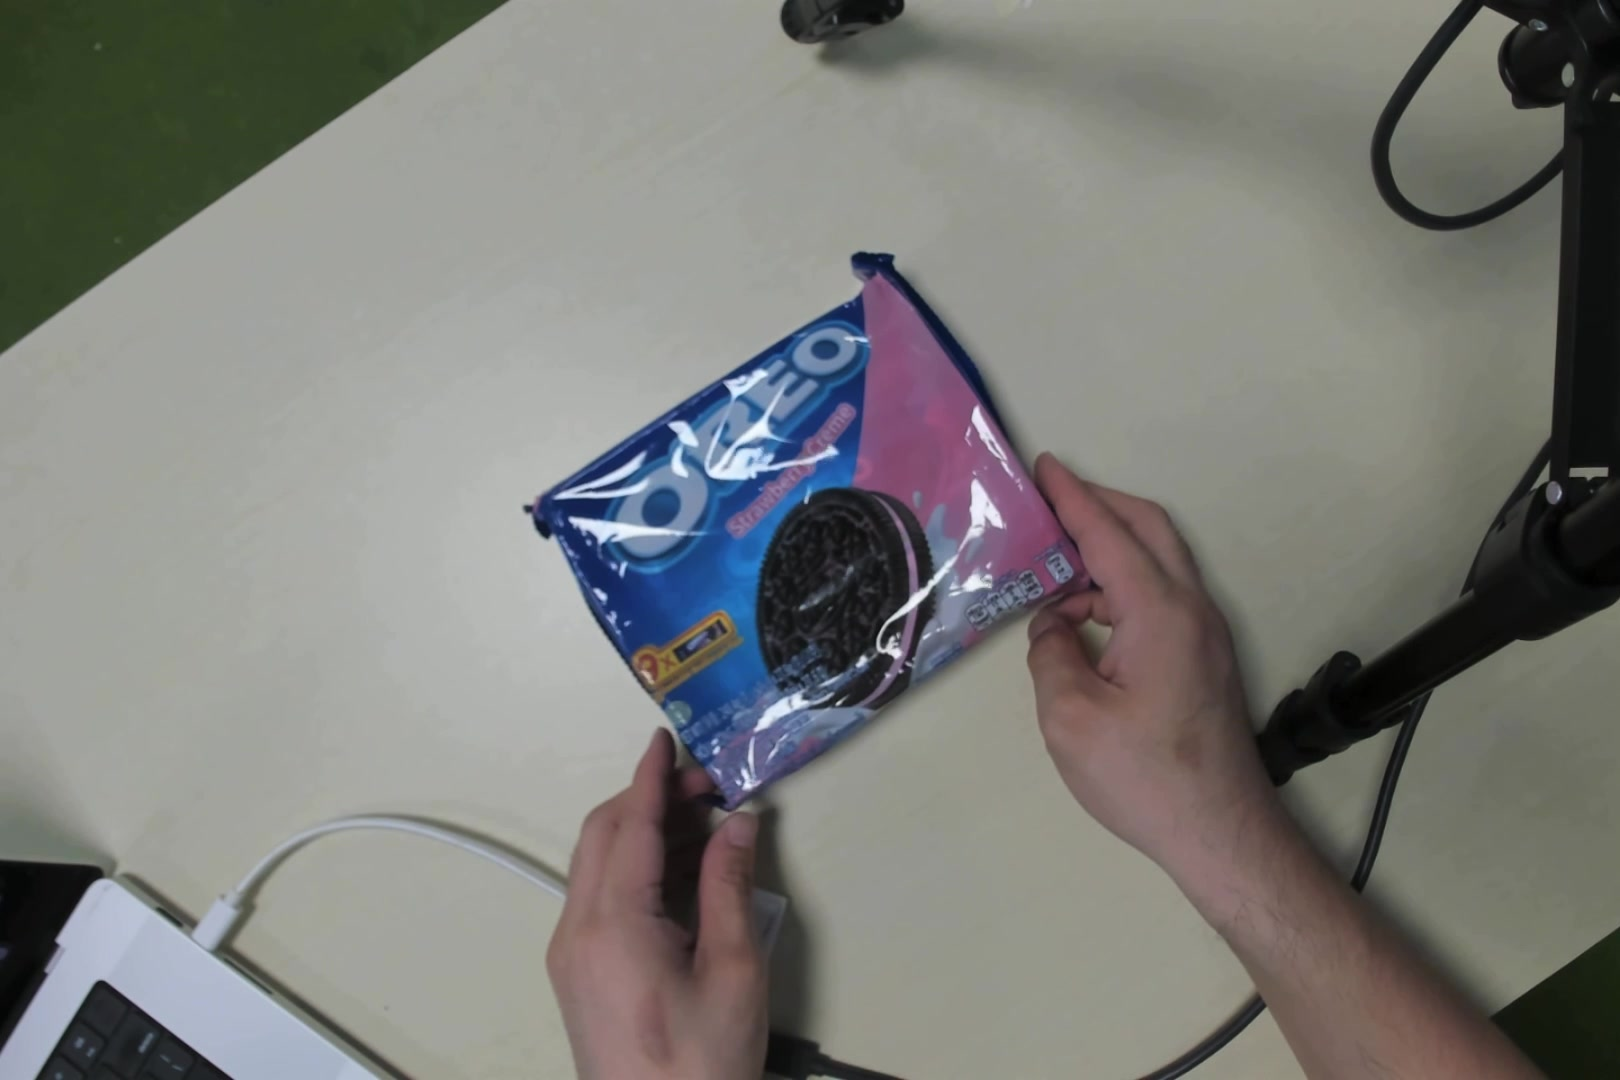SweetsChocolatesOthers_200-299g_Halal_NonHealthy: (579, 292, 1041, 756)
